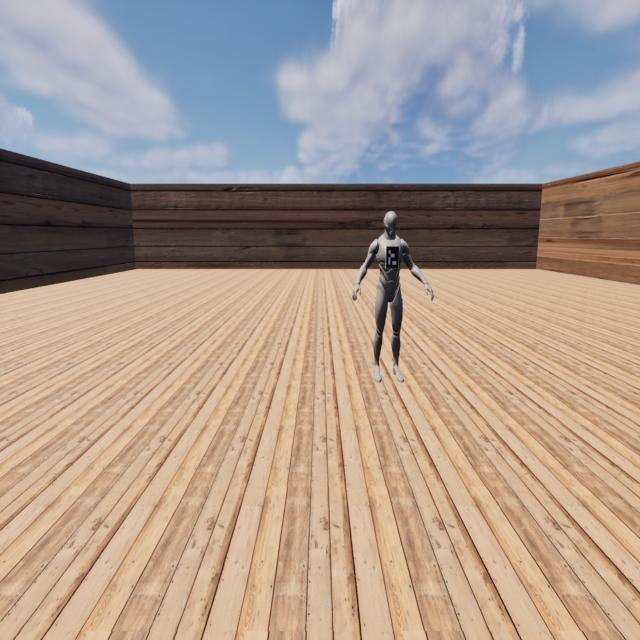aruco: (386, 246, 399, 268)
hip: (377, 283, 401, 291)
